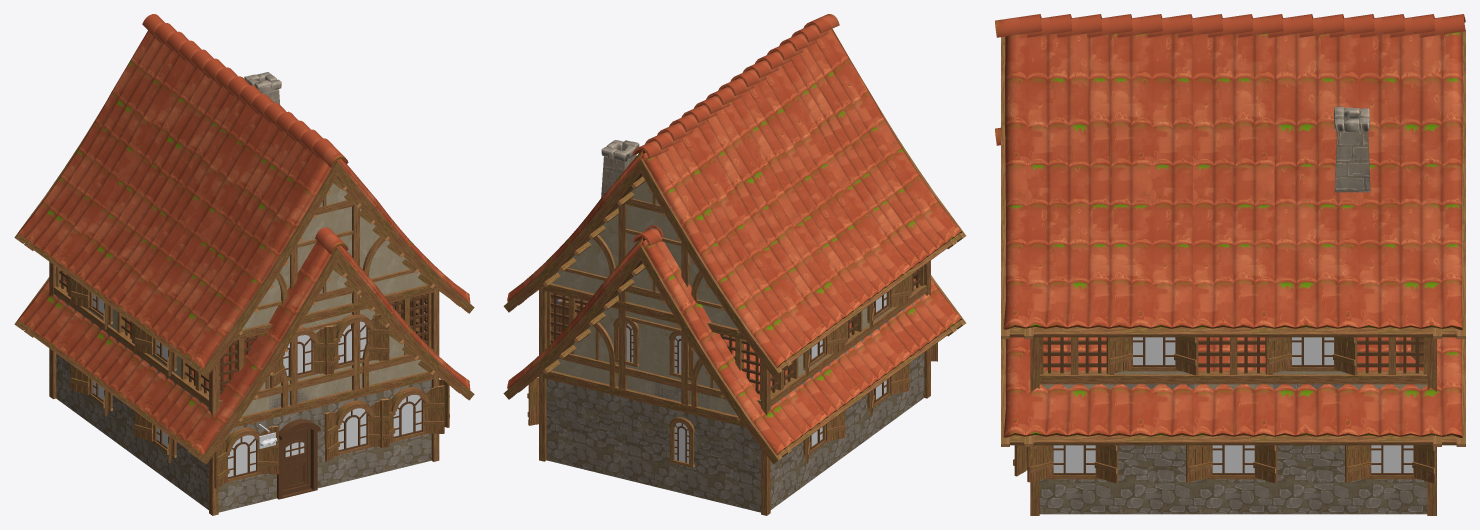
The model's file is baker_cottage.gltf.
3 views of the same model, side by side, from view 1: azimuth 30°, elevation 25°; view 2: azimuth 150°, elevation 25°; view 3: azimuth 270°, elevation 25° (orthographic). The views are drawn at different scales.
Visible parts, largest first — view 1: T3_KitRoofRoundTiles8x10135, T2_KitRoofRoundTiles8x10072, T3_KitRoofFrontBrick8136, T2_KitRoofFrontBrick8073, T2_KitWallUnevenBrickWindowWideRound009, T2_KitWallUnevenBrickWindowWideRound013, T3_KitWallPlasterWoodGrid081, T2_KitWallUnevenBrickWindowWideRound001, T2_KitDoor1Round007, T2_KitWindowShuttersWideRoundOpen012, T2_KitWindowShuttersWideRoundOpen016, T3_KitWallPlasterWoodGrid072 (+30 smaller); view 2: T3_KitRoofRoundTiles8x10135, T2_KitRoofRoundTiles8x10072, T2_KitRoofFrontBrick8074, T3_KitRoofFrontBrick8137, T2_KitWallUnevenBrickStraight018, T2_KitWallUnevenBrickStraight017, T2_KitWallUnevenBrickStraight022, T2_KitWallUnevenBrickWindowThinRound019, T3_KitWallPlasterWindowThinRound086, T3_KitWallPlasterWoodGrid082, T3_KitWallPlasterWoodGrid089, T2_KitWallUnevenBrickStraight023 (+17 smaller); view 3: T3_KitRoofRoundTiles8x10135, T2_KitRoofRoundTiles8x10072, T2_KitWallUnevenBrickStraight038, T2_KitWallUnevenBrickStraight043, T3_KitPropChimney165, T2_KitWallUnevenBrickWindowWideRound039, T3_KitWallPlasterWoodGrid106, T2_KitWallUnevenBrickWindowWideRound044, T3_KitWallPlasterWoodGrid111, T2_KitWallUnevenBrickWindowWideRound034, T3_KitWallPlasterWoodGrid101, T3_KitWindowShuttersWideRoundOpen105 (+16 smaller).
Part boxes in pixels (box(x1,y1,x2,y2)): T3_KitRoofRoundTiles8x10135: box(14, 14, 474, 377); T2_KitRoofRoundTiles8x10072: box(14, 227, 474, 464); T3_KitRoofFrontBrick8136: box(234, 178, 440, 340); T2_KitRoofFrontBrick8073: box(234, 265, 440, 427); T2_KitWallUnevenBrickWindowWideRound009: box(324, 392, 379, 486); T2_KitWallUnevenBrickWindowWideRound013: box(379, 379, 431, 473); T3_KitWallPlasterWoodGrid081: box(379, 293, 433, 382); T2_KitWallUnevenBrickWindowWideRound001: box(218, 419, 268, 512); T2_KitDoor1Round007: box(282, 428, 310, 495); T2_KitWindowShuttersWideRoundOpen012: box(324, 399, 389, 461); T2_KitWindowShuttersWideRoundOpen016: box(380, 385, 444, 447); T3_KitWallPlasterWoodGrid072: box(218, 335, 270, 416); T3_KitRoofRoundTiles8x10135: box(503, 14, 966, 376); T2_KitRoofRoundTiles8x10072: box(503, 225, 966, 464); T2_KitRoofFrontBrick8074: box(538, 264, 745, 427); T3_KitRoofFrontBrick8137: box(538, 176, 745, 340); T2_KitWallUnevenBrickStraight018: box(599, 392, 654, 486); T2_KitWallUnevenBrickStraight017: box(546, 379, 599, 472); T2_KitWallUnevenBrickStraight022: box(710, 419, 760, 512); T2_KitWallUnevenBrickWindowThinRound019: box(654, 405, 710, 499); T3_KitWallPlasterWindowThinRound086: box(653, 318, 710, 408); T3_KitWallPlasterWoodGrid082: box(545, 291, 599, 381); T3_KitWallPlasterWoodGrid089: box(709, 334, 760, 415); T2_KitWallUnevenBrickStraight023: box(770, 445, 797, 509); T3_KitRoofRoundTiles8x10135: box(995, 14, 1465, 338); T2_KitRoofRoundTiles8x10072: box(995, 127, 1465, 446); T2_KitWallUnevenBrickStraight038: box(1114, 445, 1193, 514); T2_KitWallUnevenBrickStraight043: box(1273, 445, 1352, 514); T3_KitPropChimney165: box(1334, 106, 1370, 194); T2_KitWallUnevenBrickWindowWideRound039: box(1194, 478, 1273, 514); T3_KitWallPlasterWoodGrid106: box(1194, 337, 1273, 389); T2_KitWallUnevenBrickWindowWideRound044: box(1352, 478, 1427, 514); T3_KitWallPlasterWoodGrid111: box(1352, 337, 1427, 389); T2_KitWallUnevenBrickWindowWideRound034: box(1039, 478, 1114, 514); T3_KitWallPlasterWoodGrid101: box(1039, 337, 1114, 389); T3_KitWindowShuttersWideRoundOpen105: box(1106, 337, 1197, 375).
Size of the model in its own units: 9.95 by 12.07 by 11.86.
64 materials, 64 textured.
